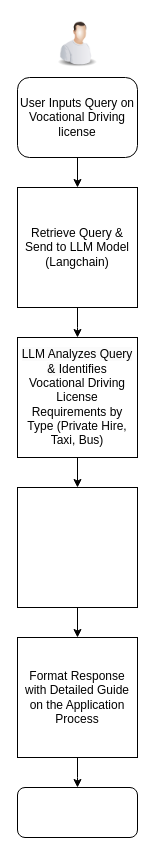
This 155x855 diagram has some shape labels left out. Each missing label, with the centre of its shape:
Display Response to User in Chat Interface: pixel 77 812
Retrieve Steps, Fees, Documentation & Eligibility Criteria: pixel 77 547
